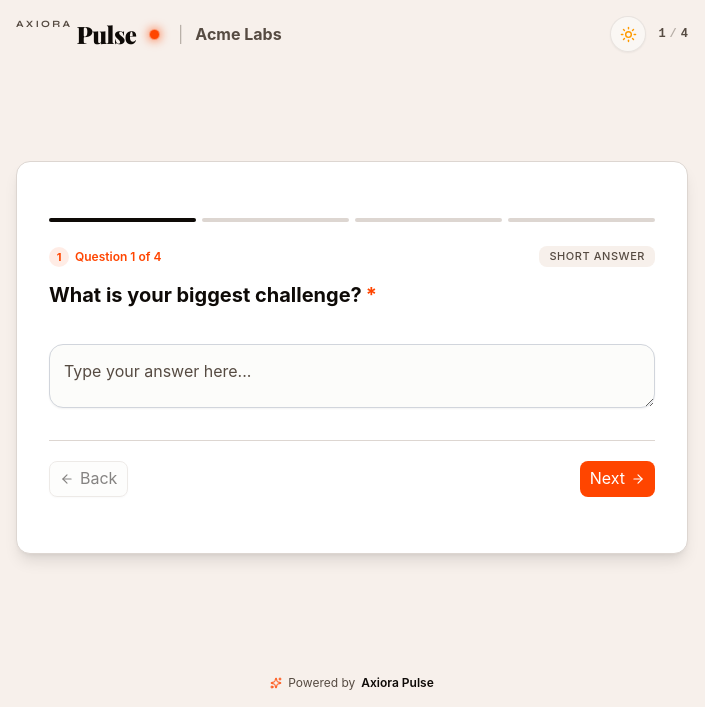
PublicSurveyPage › shows an error when trying to advance past a mandatory question without answering
// Try to click Next without answering mandatory text question
Click the button "Next" at (617, 479), box [580,461,655,497]
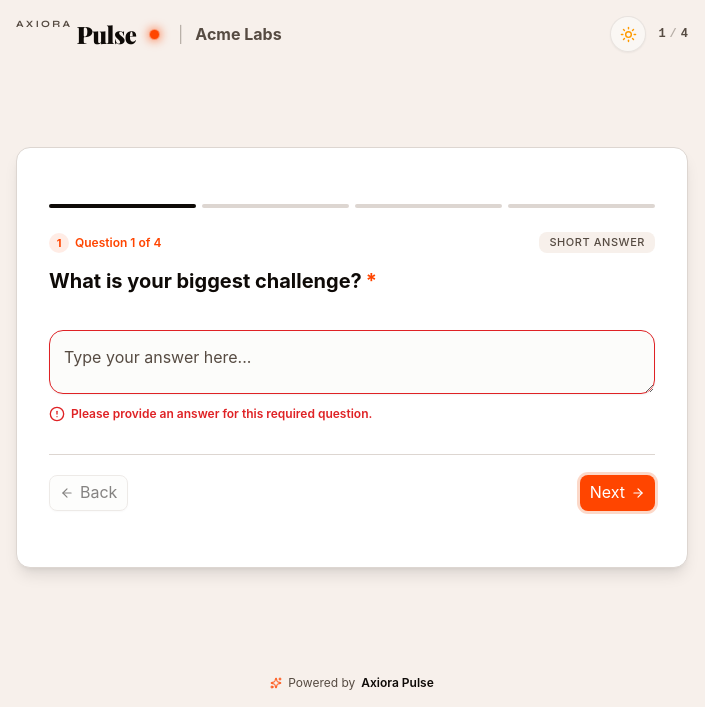
expect the text "Please provide an answer for this required question." is shown: met, box [49,406,372,422]
